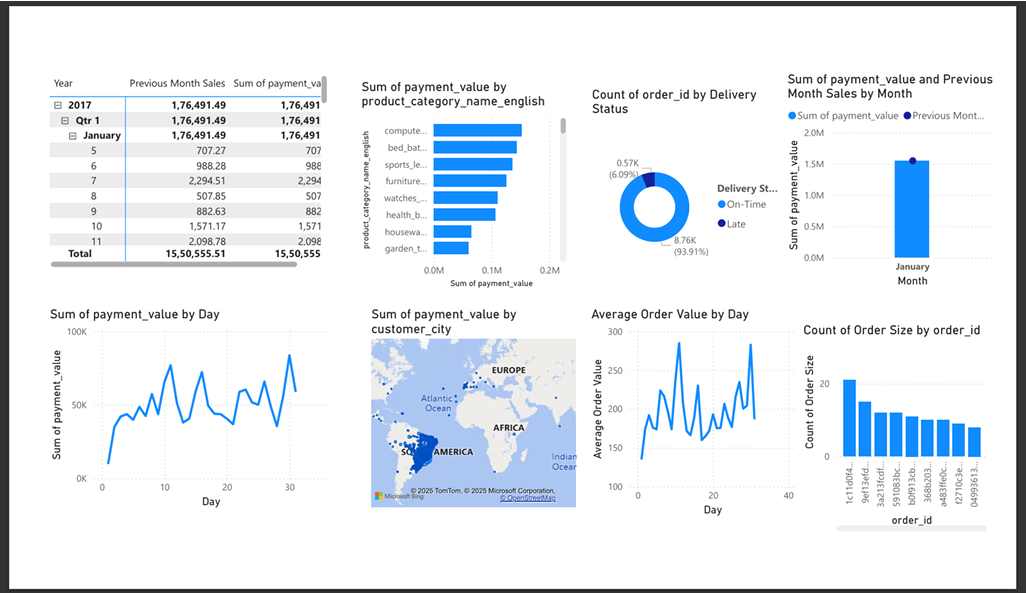

What the dashboard file says about the page in this screenshot:
{"tool":"powerbi","page":{"name":"Page 1","canvas":[1280,720],"ordinal":0},"visuals":[{"type":"card","fields":{"Values":["CountNonNull(olistdata.payment_value)"]},"box":[10,0,280,280],"z":0},{"type":"lineChart","fields":{"Category":["olistdata.order_purchase_timestamp.Variation.Date Hierarchy.Year","olistdata.order_purchase_timestamp.Variation.Date Hierarchy.Quarter","olistdata.order_purchase_timestamp.Variation.Date Hierarchy.Month","olistdata.order_purchase_timestamp.Variation.Date Hierarchy.Day"],"Y":["Sum(olistdata.payment_value)"]},"box":[25.2,372.2,376.4,270.1],"z":1000},{"type":"barChart","fields":{"Y":["Sum(olistdata.payment_value)"],"Category":["olistdata.product_category_name_english"]},"box":[436,72,280,280],"z":2000},{"type":"map","fields":{"Size":["Sum(olistdata.payment_value)"],"Category":["olistdata.customer_state","olistdata.customer_city"]},"box":[449.2,372.2,279.8,270.1],"z":3000},{"type":"donutChart","fields":{"Y":["CountNonNull(olistdata.order_id)"],"Category":["olistdata.Delivery Status"]},"box":[740,82,258,280],"z":4000},{"type":"card","fields":{"Values":["olistdata.Average Order Value"]},"box":[1029,81,251,280],"z":5000},{"type":"lineChart","fields":{"Category":["olistdata.order_purchase_timestamp.Variation.Date Hierarchy.Year","olistdata.order_purchase_timestamp.Variation.Date Hierarchy.Quarter","olistdata.order_purchase_timestamp.Variation.Date Hierarchy.Month","olistdata.order_purchase_timestamp.Variation.Date Hierarchy.Day"],"Y":["olistdata.Average Order Value"]},"box":[738.8,372.2,279.8,281.2],"z":6000},{"type":"columnChart","fields":{"Category":["olistdata.order_id"],"Y":["CountNonNull(olistdata.Order Size)"]},"box":[1018.7,393.2,251.9,281.2],"z":7000},{"type":"pivotTable","fields":{"Values":["olistdata.Previous Month Sales","Sum(olistdata.payment_value)"],"Rows":["olistdata.order_purchase_timestamp.Variation.Date Hierarchy.Year","olistdata.order_purchase_timestamp.Variation.Date Hierarchy.Quarter","olistdata.order_purchase_timestamp.Variation.Date Hierarchy.Month","olistdata.order_purchase_timestamp.Variation.Date Hierarchy.Day"]},"box":[24.9,62.2,376.1,264.2],"z":8000},{"type":"lineClusteredColumnComboChart","fields":{"Category":["olistdata.order_purchase_timestamp.Variation.Date Hierarchy.Month"],"Y":["Sum(olistdata.payment_value)"],"Y2":["olistdata.Previous Month Sales"]},"box":[997.7,61.6,282.6,289.6],"z":9000}]}

Visuals, with their boxes in screenshot pixels (x1, y1, x2, y2), scaled from the page's 1280x720 canvas onto the 1026x594 screenshot:
card - CountNonNull(olistdata.payment_value): <bbox>8, 0, 232, 231</bbox>
lineChart - olistdata.order_purchase_timestamp.Variation.Date Hierarchy.Year x olistdata.order_purchase_timestamp.Variation.Date Hierarchy.Quarter: <bbox>20, 307, 322, 530</bbox>
barChart - Sum(olistdata.payment_value) x olistdata.product_category_name_english: <bbox>349, 59, 574, 290</bbox>
map - Sum(olistdata.payment_value) x olistdata.customer_state: <bbox>360, 307, 584, 530</bbox>
donutChart - CountNonNull(olistdata.order_id) x olistdata.Delivery Status: <bbox>593, 68, 800, 299</bbox>
card - olistdata.Average Order Value: <bbox>825, 67, 1025, 298</bbox>
lineChart - olistdata.order_purchase_timestamp.Variation.Date Hierarchy.Year x olistdata.order_purchase_timestamp.Variation.Date Hierarchy.Quarter: <bbox>592, 307, 816, 539</bbox>
columnChart - olistdata.order_id x CountNonNull(olistdata.Order Size): <bbox>817, 324, 1018, 556</bbox>
pivotTable - olistdata.Previous Month Sales x Sum(olistdata.payment_value): <bbox>20, 51, 321, 269</bbox>
lineClusteredColumnComboChart - olistdata.order_purchase_timestamp.Variation.Date Hierarchy.Month x Sum(olistdata.payment_value): <bbox>800, 51, 1025, 290</bbox>
